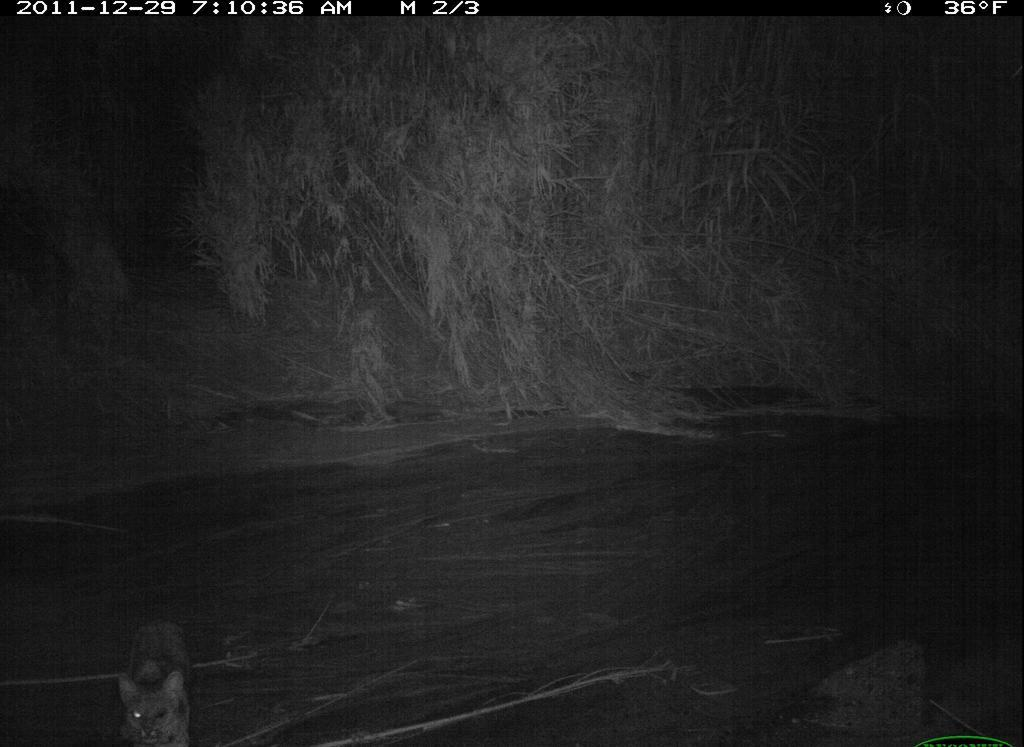bobcat: (97, 603, 219, 745)
